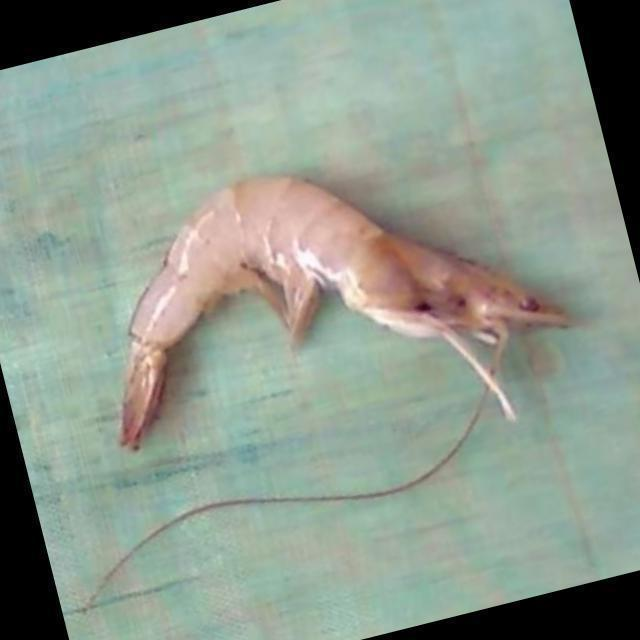shrimp: (120, 177, 571, 450)
